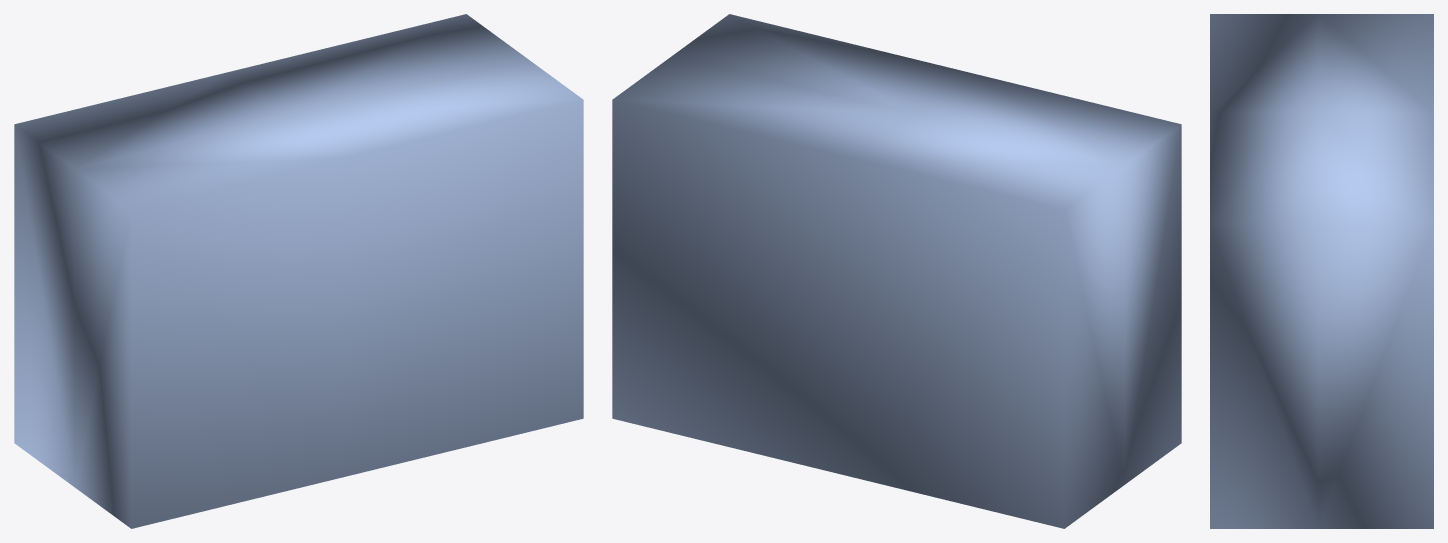
Rendered from Building_A_15.fbx.
3 views of the same model, side by side, from view 1: azimuth 30°, elevation 25°; view 2: azimuth 150°, elevation 25°; view 3: azimuth 270°, elevation 25° (orthographic). The views are drawn at different scales.
Parts seen in each view (by area): view 1: Building_A_15; view 2: Building_A_15; view 3: Building_A_15.
Part boxes in pixels (left/top/right/bottom): Building_A_15: left=14, top=14, right=583, bottom=528; Building_A_15: left=612, top=14, right=1181, bottom=528; Building_A_15: left=1210, top=14, right=1433, bottom=528.
Bounding box in the file's own units: 931 × 627 × 418.
